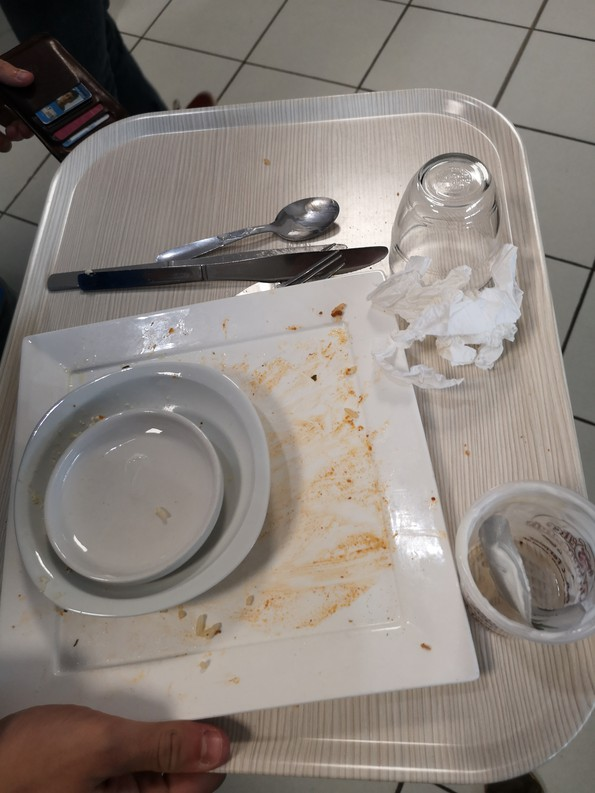cup: (374, 165, 522, 301)
cutlery: (51, 202, 407, 288)
trash: (376, 248, 532, 389), (452, 484, 595, 630)
